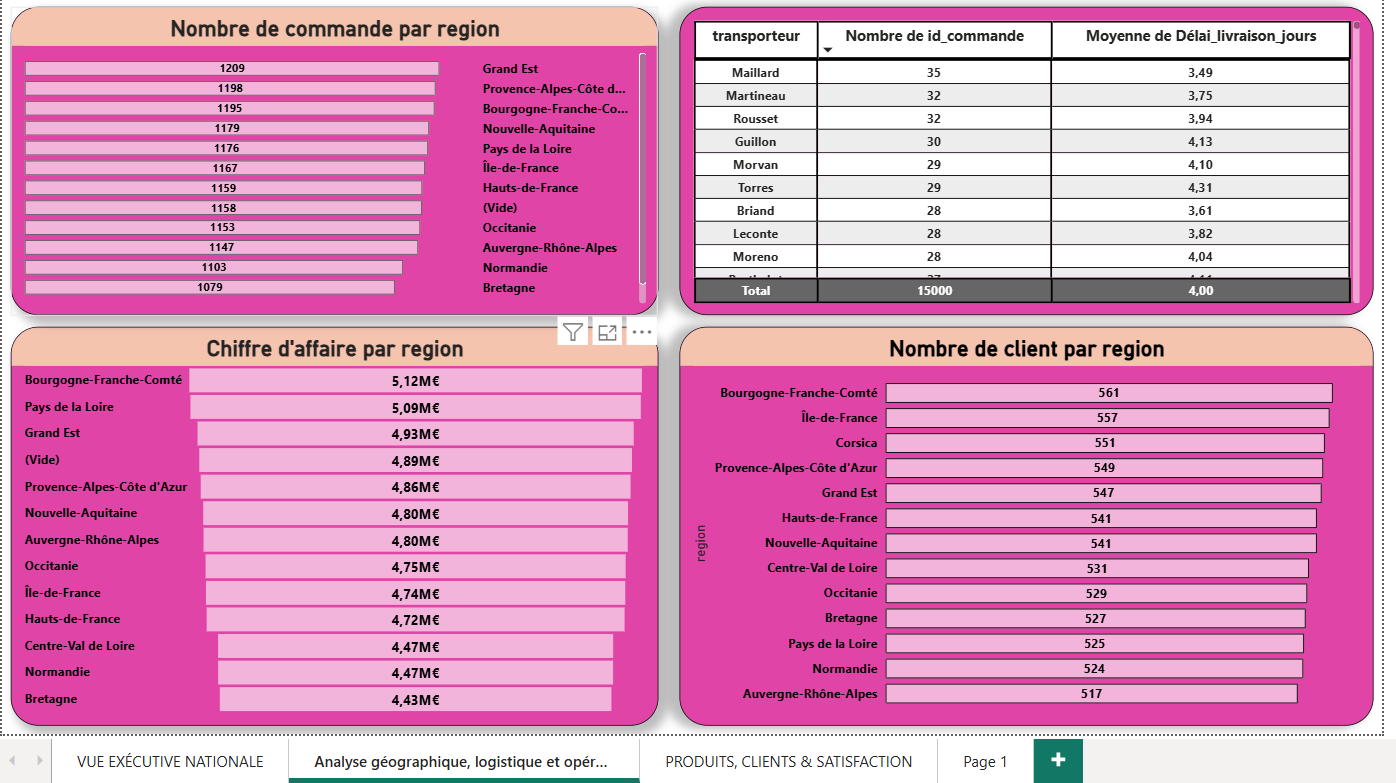

The page's visual inventory and layout, read from the dashboard file:
{"tool":"powerbi","page":{"name":"Analyse géographique, logistique et opérations","canvas":[1500,800],"ordinal":1},"visuals":[{"type":"funnel","title":"Chiffre d''affaire par region","fields":{"Category":["geolocalisation_avec_regions.region"],"Y":["Sum(articles_de_commande.Prix_total)"]},"box":[9.5,357.3,703.8,433.4],"z":0},{"type":"barChart","title":"Nombre de commande par region","fields":{"Category":["geolocalisation_avec_regions.region"],"Y":["CountNonNull(commandes.id_commande)"]},"box":[9.5,9.5,703.8,335.6],"z":1000},{"type":"barChart","title":"Nombre de client par region","fields":{"Y":["CountNonNull(clients.id_client)"],"Category":["clients.region"]},"box":[736.4,357.3,754.1,433.4],"z":2000},{"type":"tableEx","fields":{"Values":["livraisons.transporteur","livraisons.id_commande","Avg(livraisons.Délai_livraison_jours)"]},"box":[736.4,9.5,754.1,335.6],"z":3000}]}

Visuals, with their boxes on the page's 1500x800 design canvas (x1, y1, x2, y2). These are canvas units, not pixel positions in the 1396x783 screenshot, which may show the page scaled, cropped or inside an application window:
"Chiffre d''affaire par region" funnel: pyautogui.locateOnScreen(10, 357, 713, 791)
"Nombre de commande par region" barChart: pyautogui.locateOnScreen(10, 10, 713, 345)
"Nombre de client par region" barChart: pyautogui.locateOnScreen(736, 357, 1490, 791)
tableEx - livraisons.transporteur x livraisons.id_commande: pyautogui.locateOnScreen(736, 10, 1490, 345)
